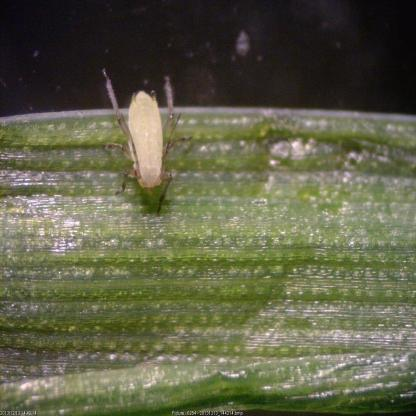aphid: (100, 69, 192, 211)
